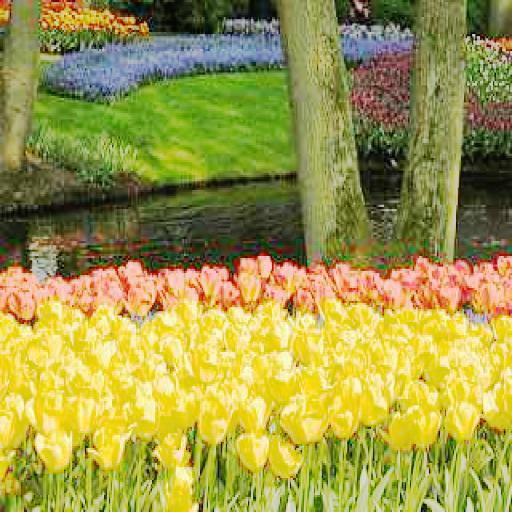tulip: (90, 422, 132, 468), (406, 401, 442, 446), (36, 427, 74, 469), (200, 399, 235, 442), (270, 433, 304, 476), (328, 395, 362, 437), (234, 429, 270, 465), (446, 399, 480, 437), (122, 279, 155, 316), (154, 433, 188, 467)
